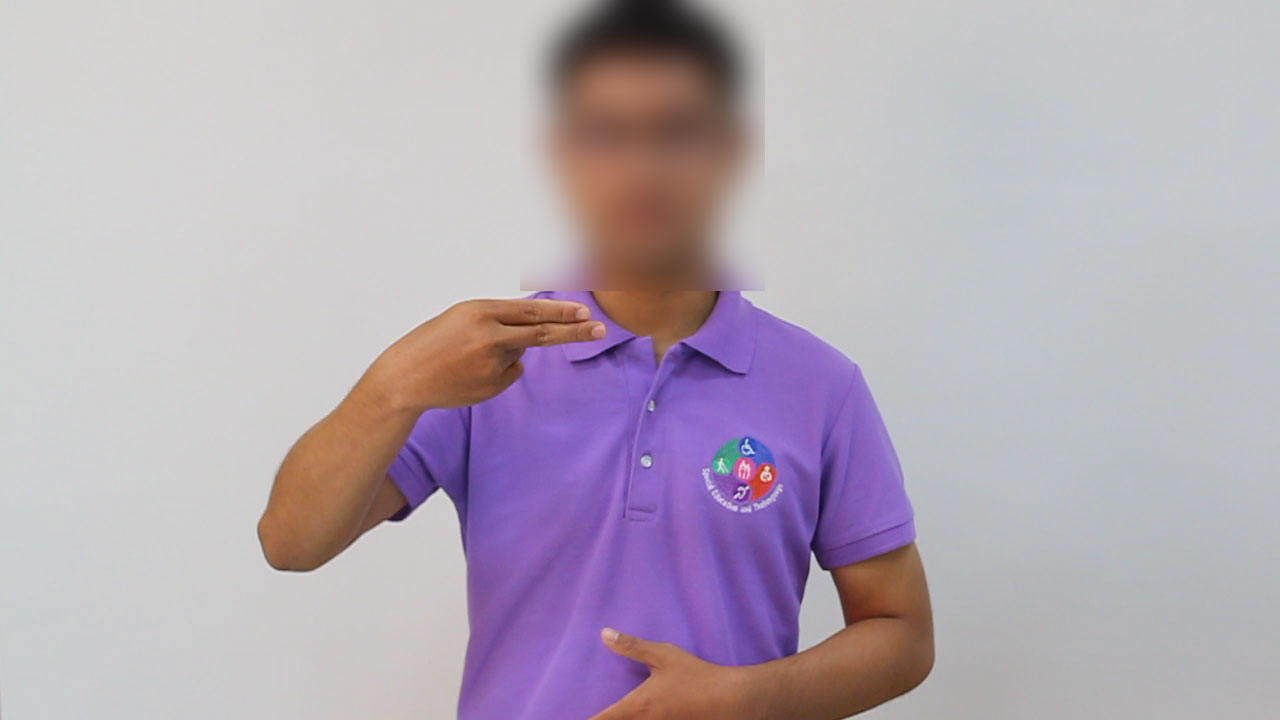hor: (364, 288, 616, 416)
